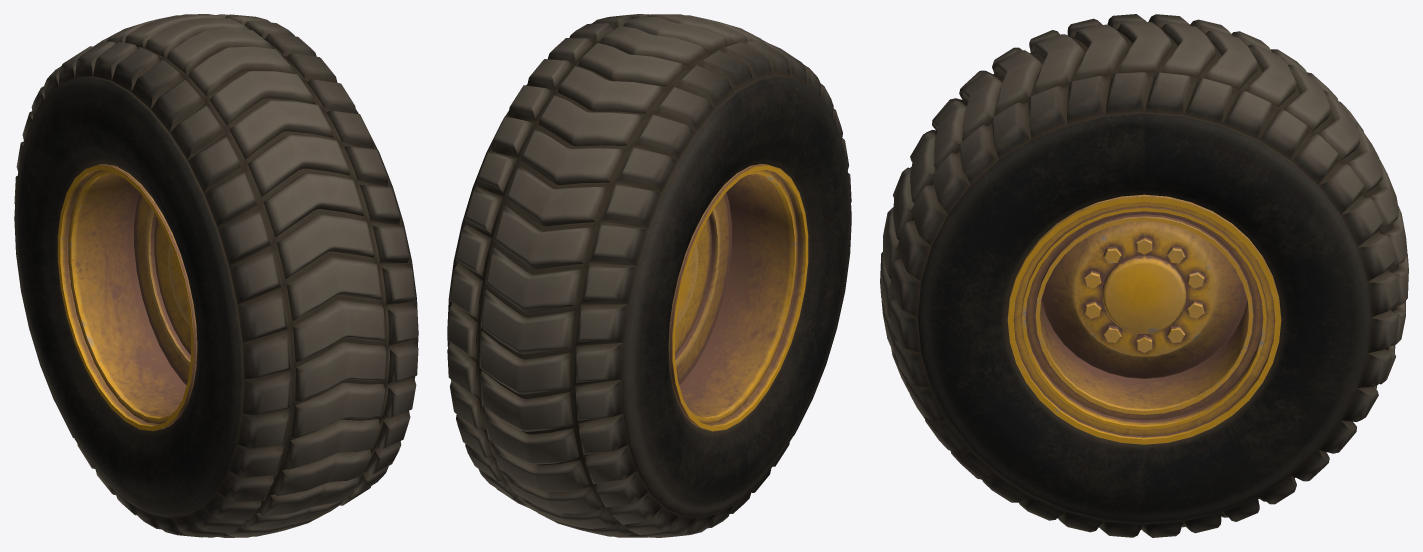
The model's file is backlefttire_optimized.glb.
The picture shows the model from 3 angles, left to right: view 1: azimuth 30°, elevation 25°; view 2: azimuth 150°, elevation 25°; view 3: azimuth 270°, elevation 25°; orthographic projection.
Parts seen in each view (by area): view 1: 008; view 2: 008; view 3: 008.
Boxes of the visible parts, x1,y1,x2,y2 form: 008: [14, 14, 418, 537]; 008: [447, 14, 851, 537]; 008: [880, 14, 1408, 537].
Bounding box in the file's own units: 28.06 × 64.44 × 64.44.
1 material, 1 textured.
